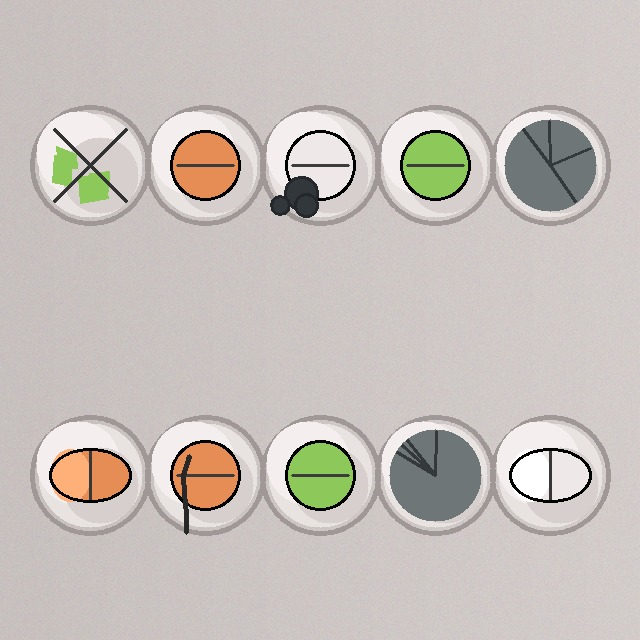broken: (28, 103, 152, 227)
crack: (143, 413, 267, 537)
empty: (488, 103, 612, 227), (373, 413, 497, 537)
stain: (258, 103, 382, 227)
